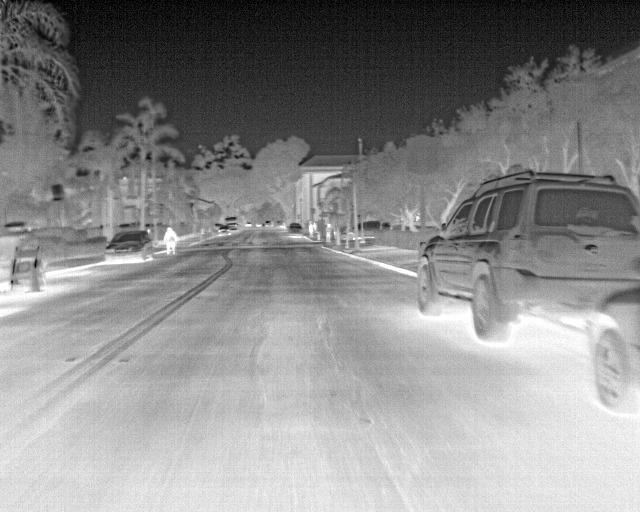bicycle: (418, 165, 639, 343), (586, 290, 637, 410), (102, 229, 153, 265), (364, 219, 382, 239), (224, 216, 243, 234), (286, 222, 304, 238)
empty: (161, 225, 179, 256)
